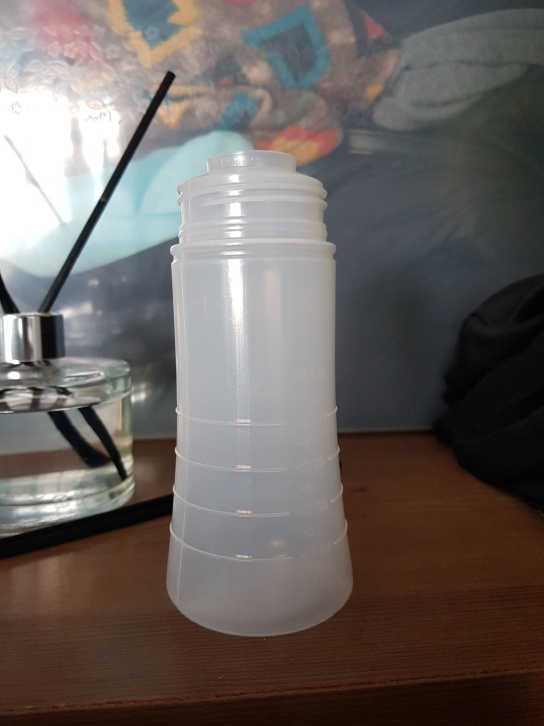Plastic: (164, 148, 358, 637)
